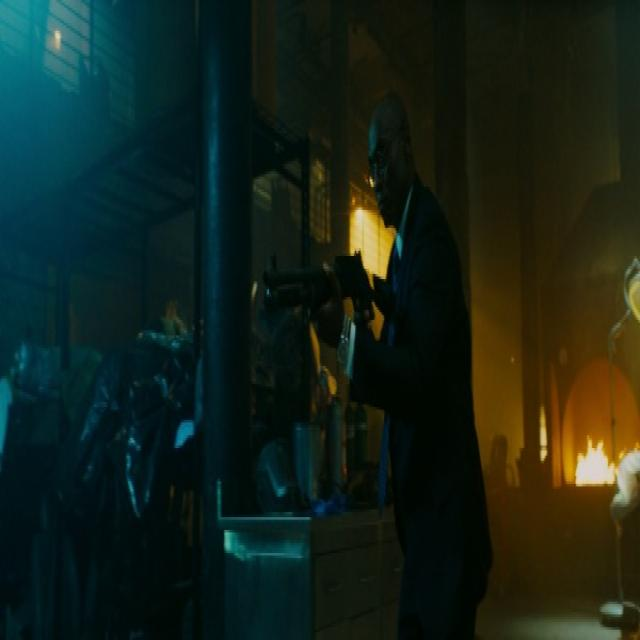rifle: (261, 240, 379, 333)
